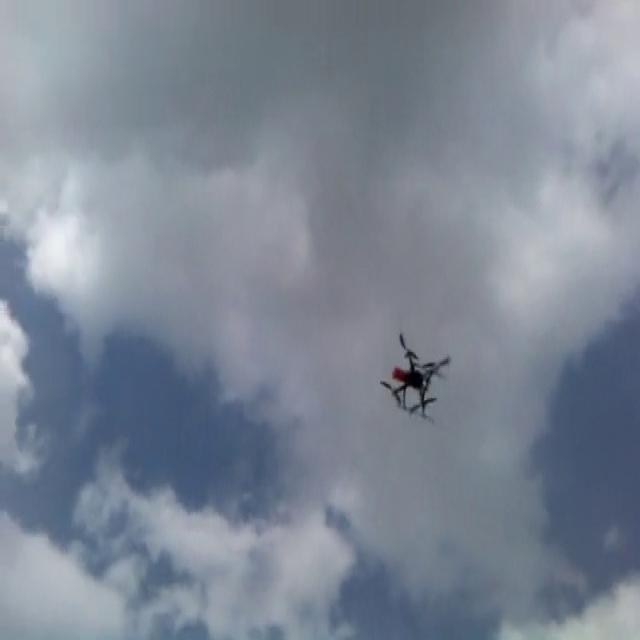drone: (377, 329, 451, 421)
